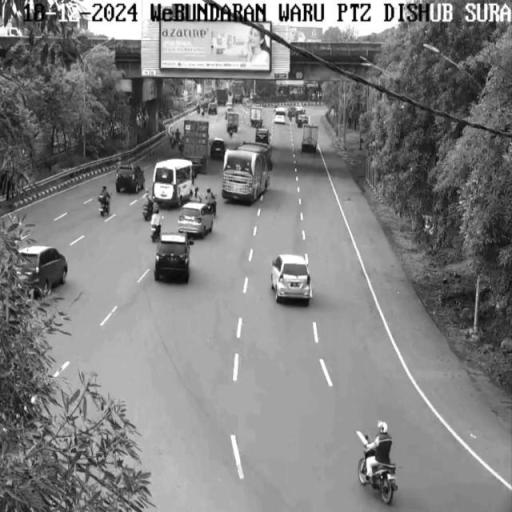bus: (219, 146, 274, 204)
car: (270, 256, 313, 300), (156, 234, 194, 283), (156, 160, 191, 208), (29, 250, 69, 284), (179, 202, 213, 239)
motorcycle: (355, 456, 404, 505), (142, 204, 156, 225), (150, 224, 166, 241), (97, 199, 110, 218)
truck: (182, 117, 209, 170)
